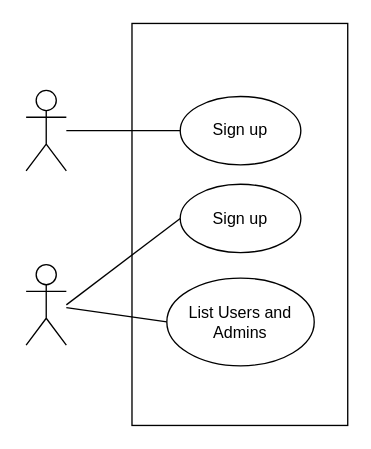
Some shapes in this 371 by 449 pixel diagram are drawn without their labels. The centre of each missing label's shape, as x and y in pixels:
"Admin" goes at point 45,304.
"User" goes at point 45,130.
